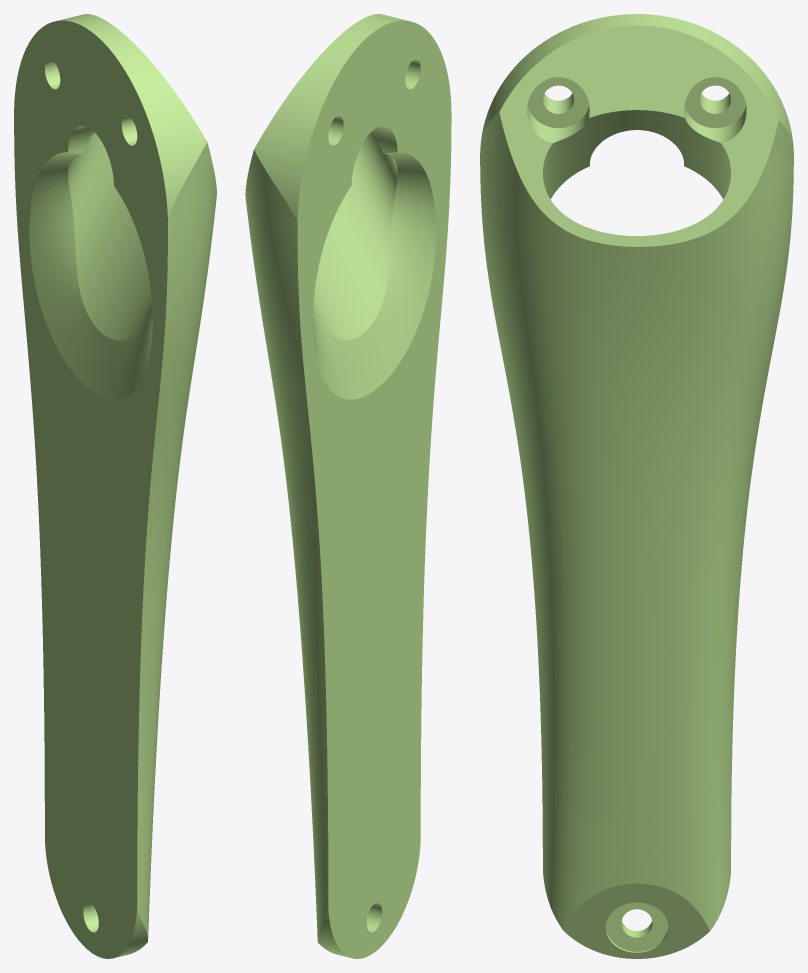
Rendered from Main_CaseOutside_5.dae.
The picture shows the model from 3 angles, left to right: view 1: azimuth 30°, elevation 25°; view 2: azimuth 150°, elevation 25°; view 3: azimuth 270°, elevation 25°; orthographic projection.
Parts seen in each view (by area): view 1: Main_CaseOutside_5; view 2: Main_CaseOutside_5; view 3: Main_CaseOutside_5.
Part boxes in pixels (x1,y1,x2,y2): Main_CaseOutside_5: [14, 14, 216, 958]; Main_CaseOutside_5: [245, 14, 451, 958]; Main_CaseOutside_5: [480, 14, 793, 958].
Size of the model in its own units: 0.00665 by 0.02 by 0.066.
